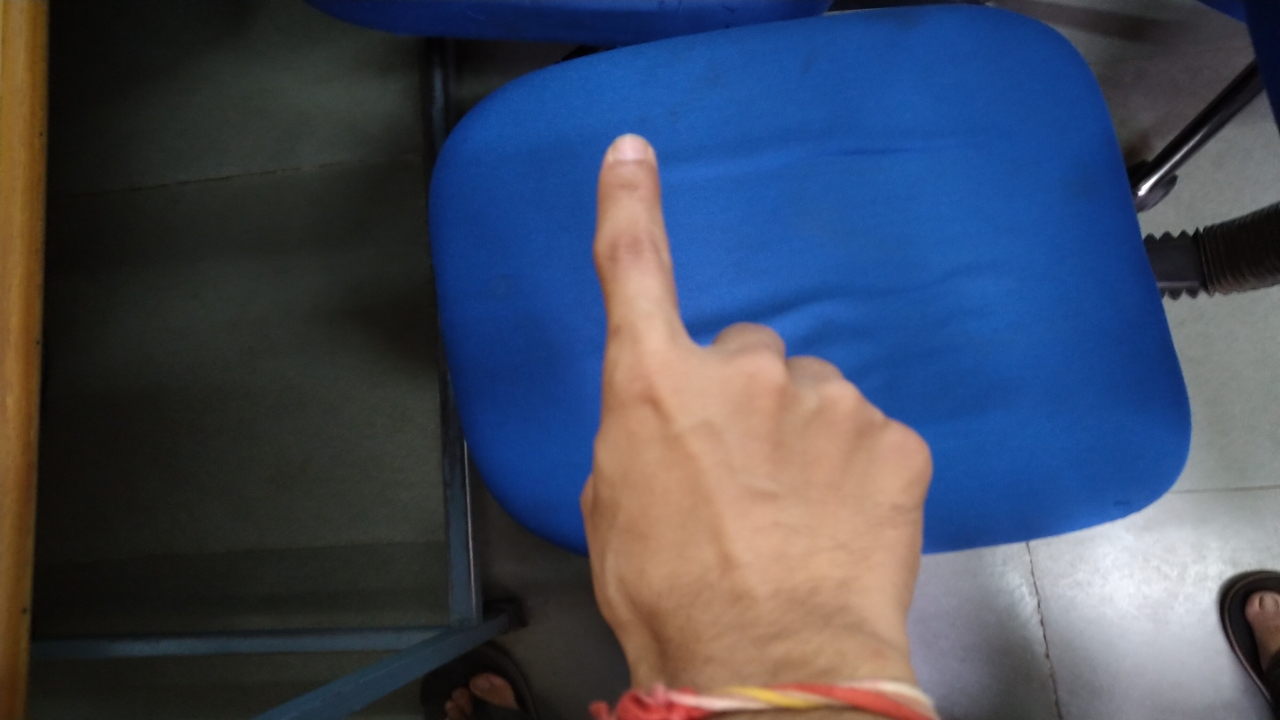fingertip: (594, 128, 662, 194)
